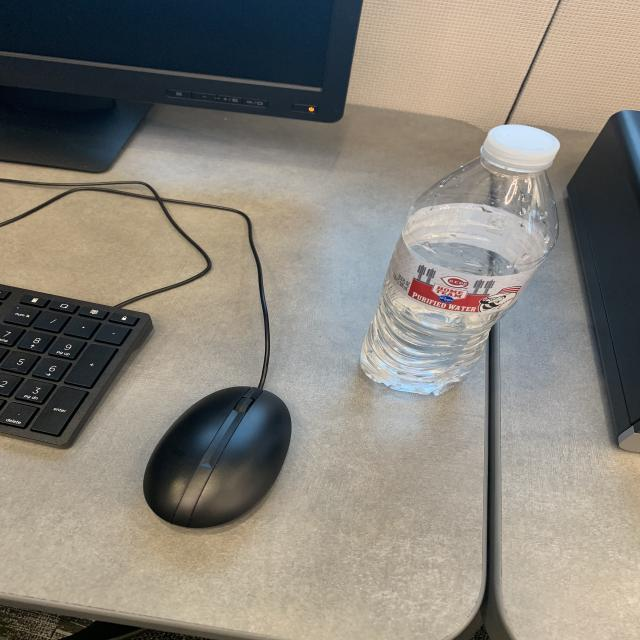Mouse: (136, 381, 302, 533)
